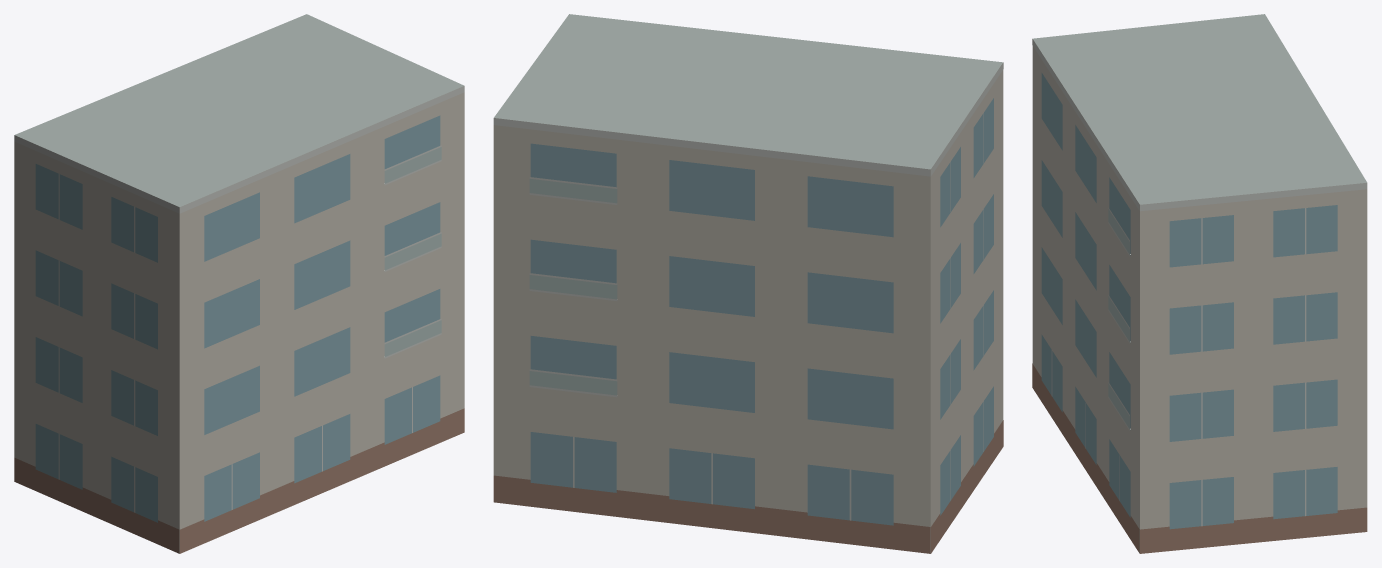
File: survey-upis-33000745.glb
3 renders of one model, left to right at view 1: azimuth 30°, elevation 25°; view 2: azimuth 150°, elevation 25°; view 3: azimuth 270°, elevation 25°, orthographic. The views are drawn at different scales.
Parts seen in each view (by area): view 1: survey-upis-33000745.tmp; view 2: survey-upis-33000745.tmp; view 3: survey-upis-33000745.tmp.
Boxes of the visible parts, x1,y1,x2,y2 form: survey-upis-33000745.tmp: (14, 14, 464, 553); survey-upis-33000745.tmp: (493, 14, 1003, 553); survey-upis-33000745.tmp: (1032, 14, 1367, 553).
Bounding box in the file's own units: 15.36 × 13.1 × 11.4.
